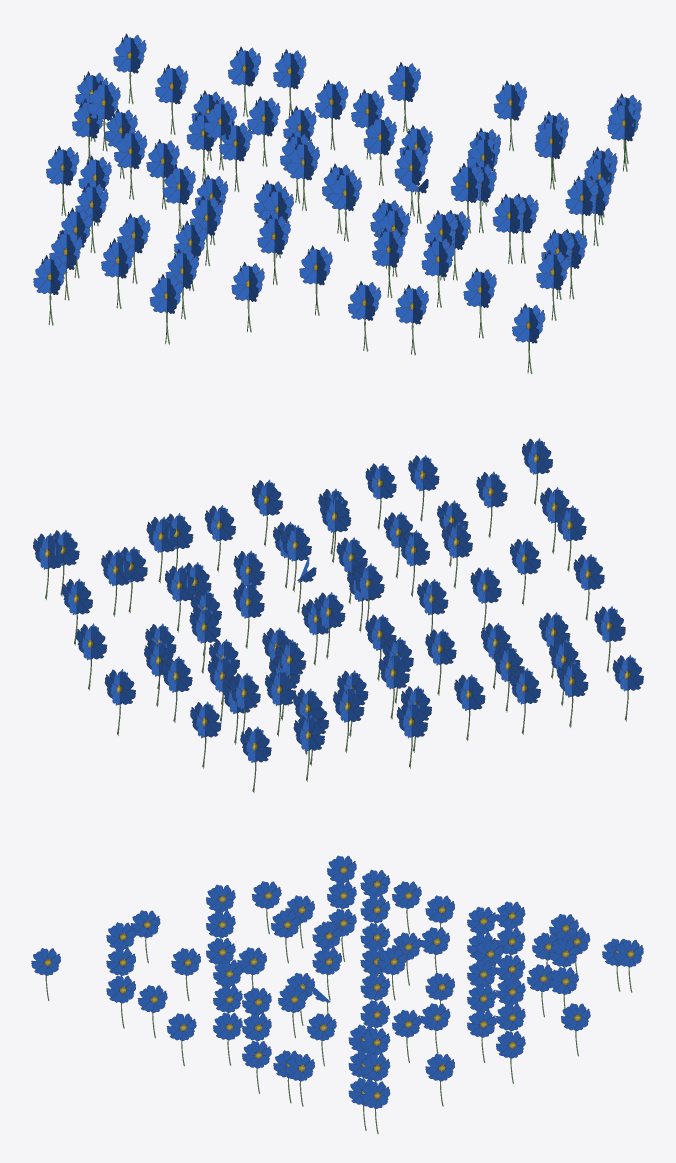
Rendered from flower2.obj.
3 renders of one model, top to bottom at view 1: azimuth 30°, elevation 25°; view 2: azimuth 150°, elevation 25°; view 3: azimuth 270°, elevation 25°, orthographic. The views are drawn at different scales.
Visible parts, largest first — view 1: blue; view 2: blue; view 3: blue.
Boxes of the visible parts, <box> form: blue: <box>33,33,641,374</box>; blue: <box>33,438,643,793</box>; blue: <box>31,855,643,1134</box>.
Bounding box in the file's own units: 9.2 × 1.28 × 9.95.
Materials: 1 (1 with a texture image).
